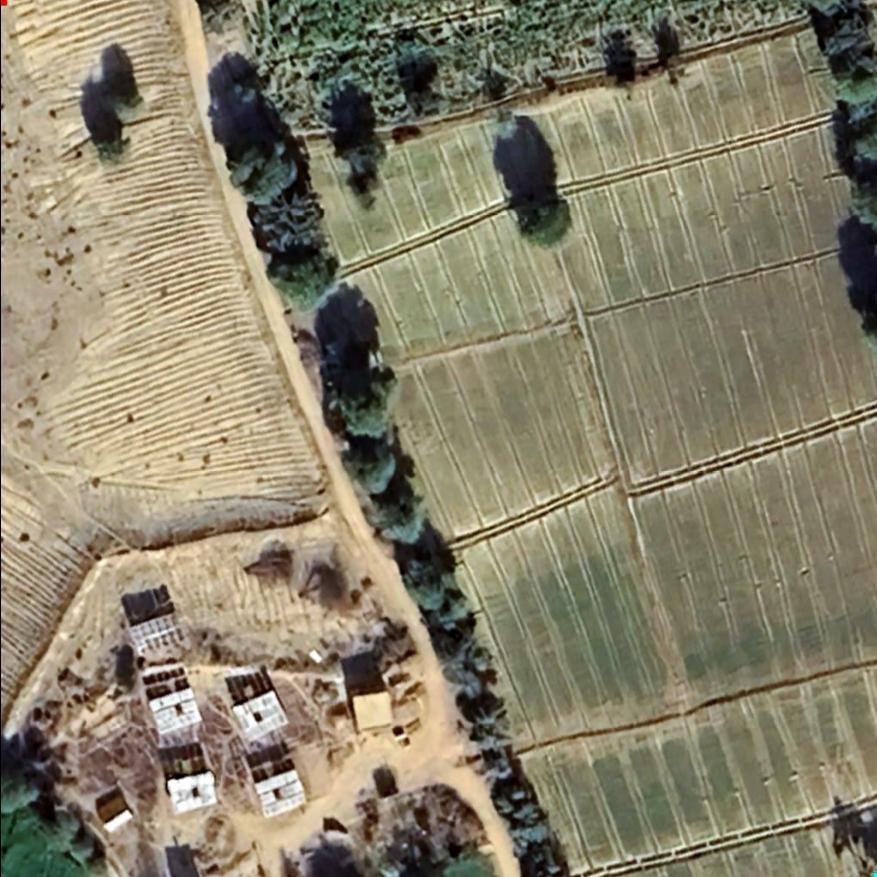Solarpanel: (225, 687, 300, 749), (142, 683, 207, 741), (122, 610, 192, 662), (250, 763, 310, 823), (165, 767, 222, 816)
